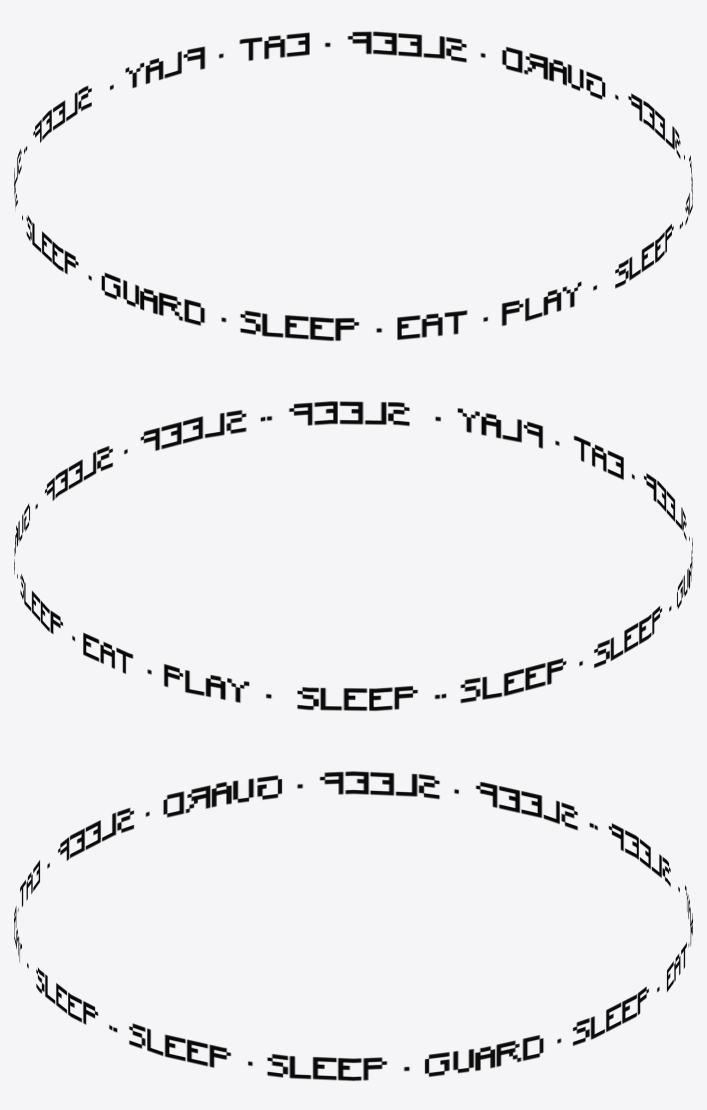
File: halosimba.glb
3 renders of one model, top to bottom at view 1: azimuth 30°, elevation 25°; view 2: azimuth 150°, elevation 25°; view 3: azimuth 270°, elevation 25°, orthographic.
Visible parts, largest first — view 1: halosimba.001; view 2: halosimba.001; view 3: halosimba.001.
Boxes of the visible parts, left/top/right/bottom form: halosimba.001: left=14, top=31, right=692, bottom=340; halosimba.001: left=14, top=401, right=692, bottom=710; halosimba.001: left=14, top=771, right=692, bottom=1080.
Size of the model in its own units: 2 by 0.177 by 2.
1 material, 1 textured.
